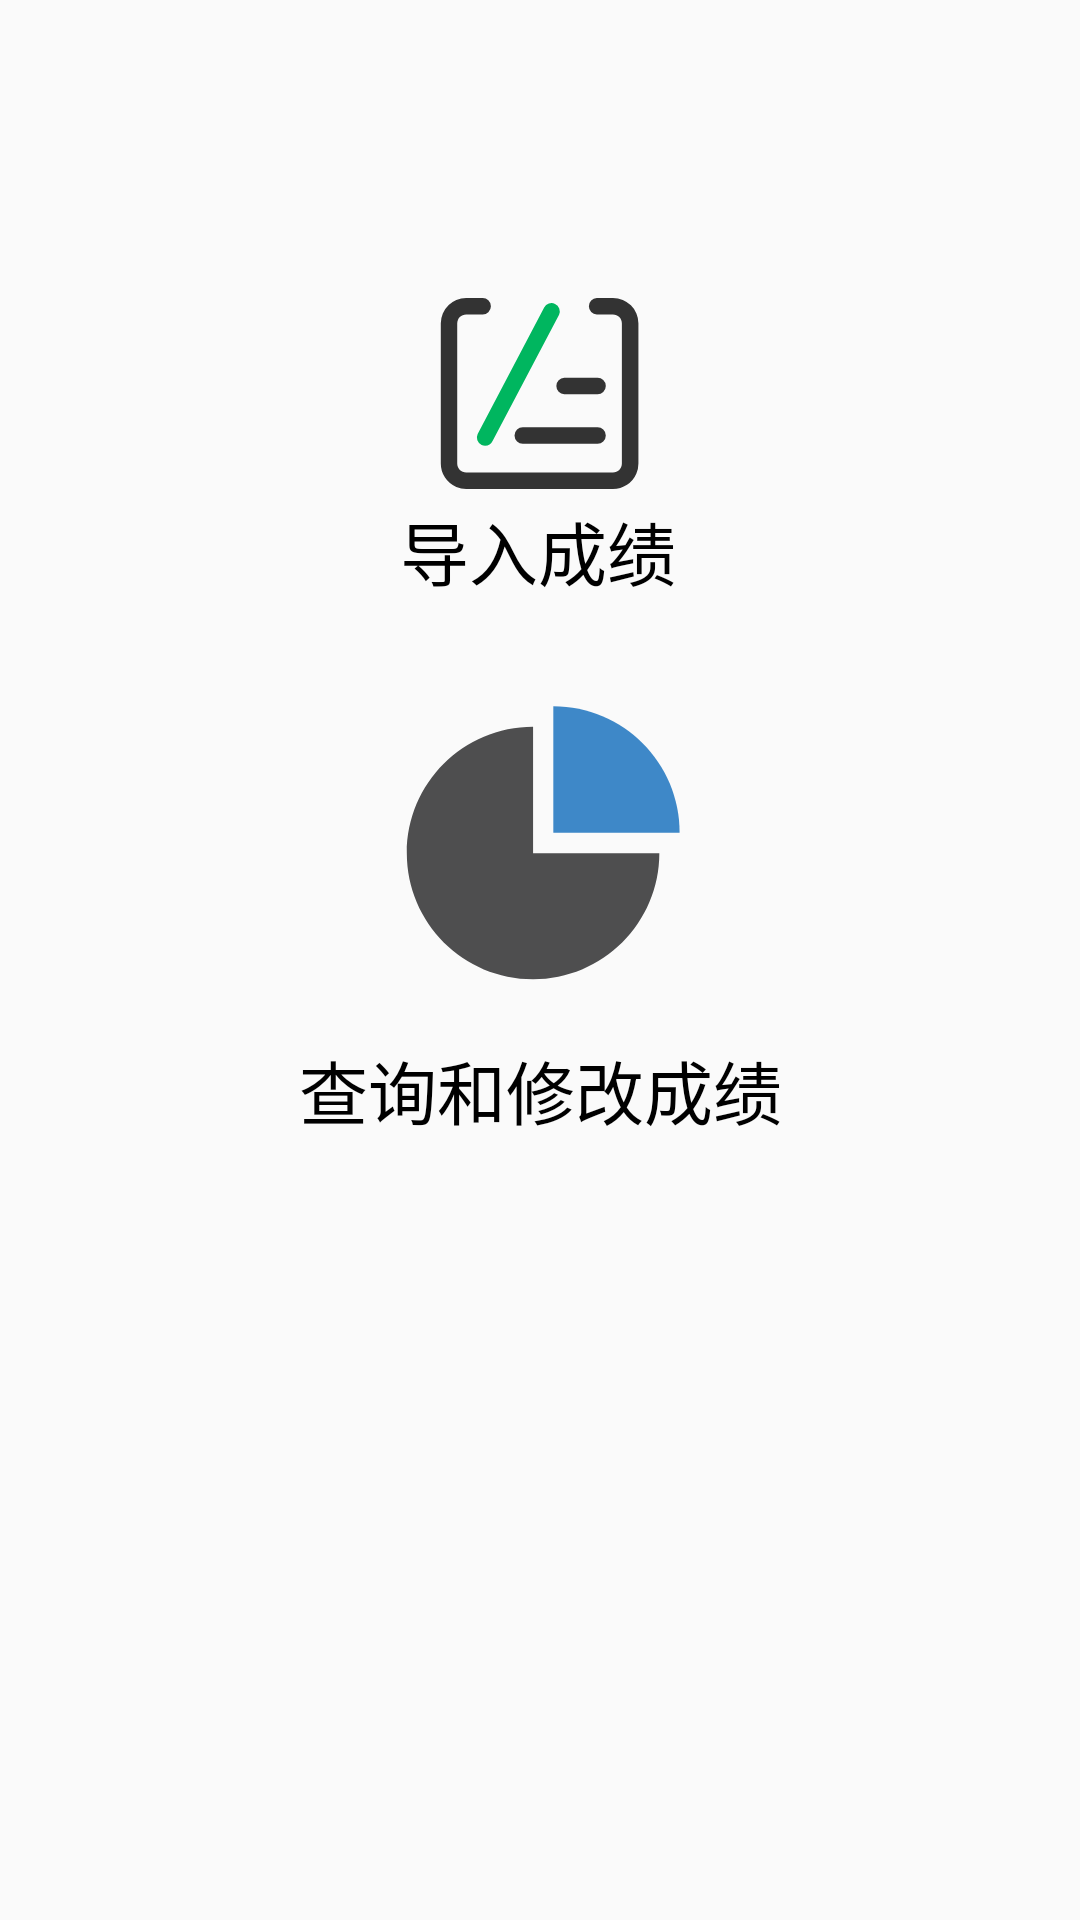

Named icons in this screenshot (1080w x 1920h) and their bounding boxes, (x1, y1, x2, y2):
tongji: (406, 706, 680, 980)
